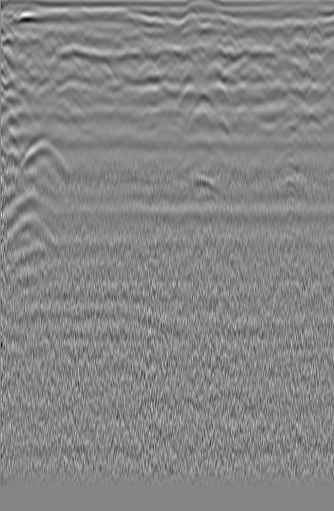상수: (273, 56, 308, 86)
오수: (10, 36, 40, 70)
우수: (130, 57, 159, 87)
